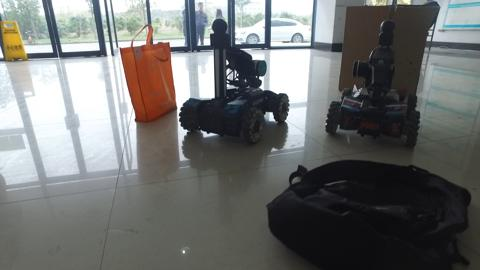bag: (117, 22, 175, 124)
chariot: (179, 19, 292, 145), (323, 18, 422, 147)
